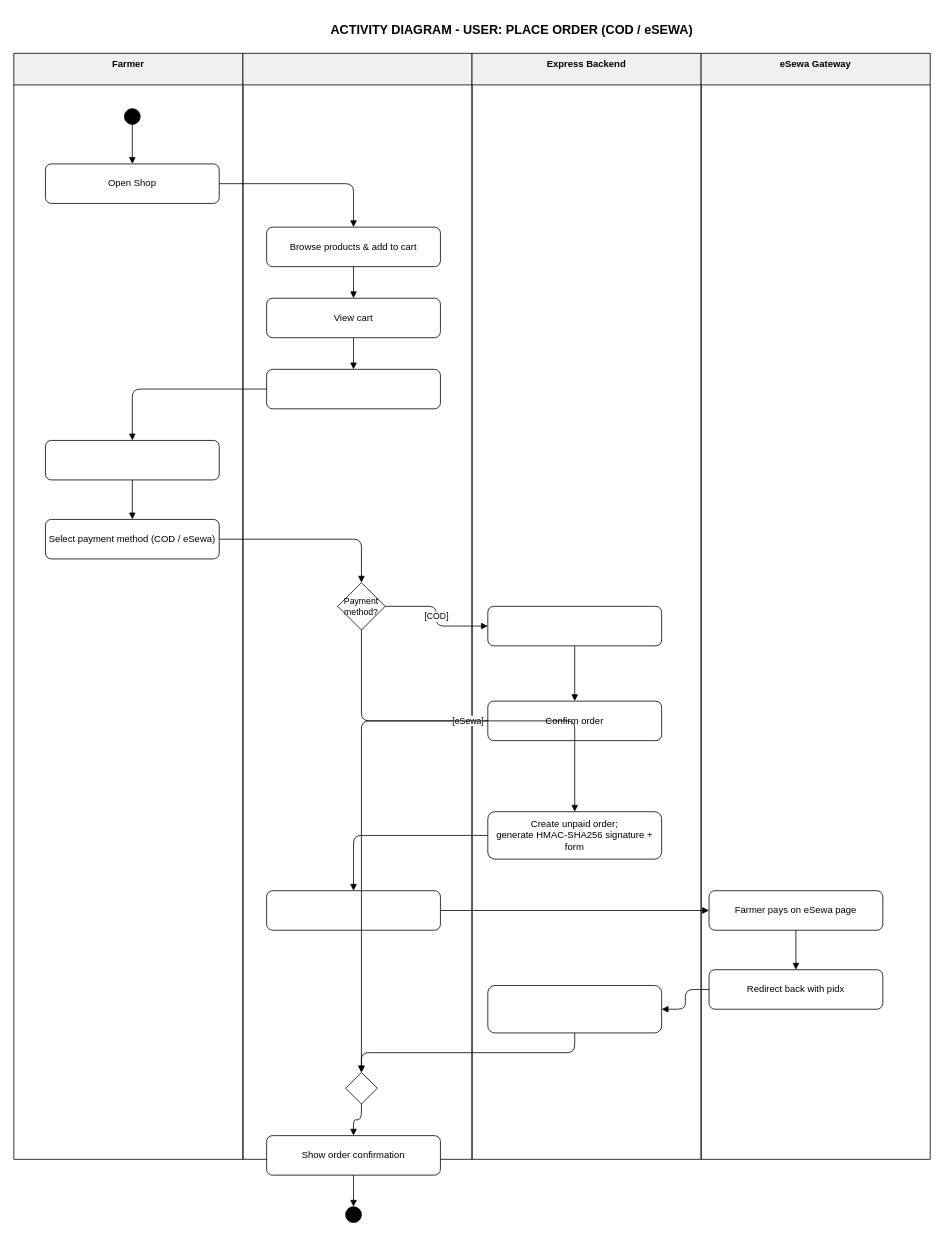
Image size: 944x1236. Some labels were removed from this diagram. Each missing label, with the box of its shape:
Create order (COD) + decrement stock: (487, 606, 662, 646)
Enter shipping address: (45, 440, 219, 480)
Proceed to checkout: (266, 369, 440, 409)
React Frontend: (242, 53, 472, 1159)
Submit hidden form (redirect) to gateway: (266, 890, 440, 930)
Verify payment via eSewa status API; mark order paid: (487, 985, 662, 1033)
